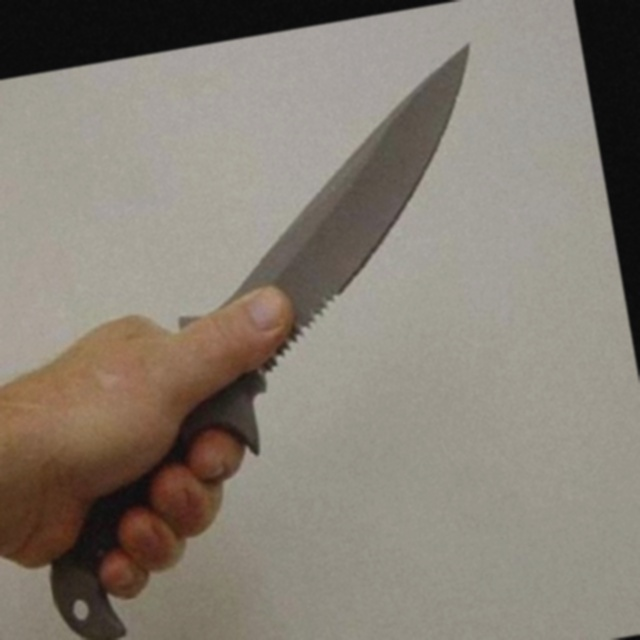Sharp-Object: (0, 40, 560, 640)
